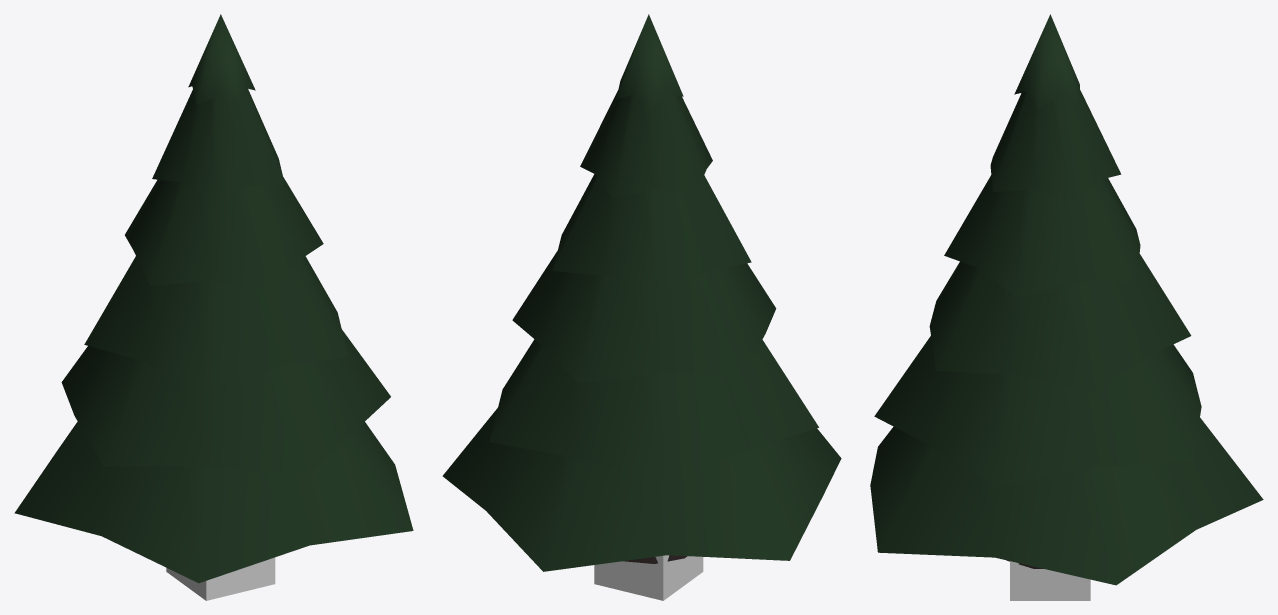
Rendered from TreeLowpoly.fbx.
The picture shows the model from 3 angles, left to right: view 1: azimuth 30°, elevation 25°; view 2: azimuth 150°, elevation 25°; view 3: azimuth 270°, elevation 25°; orthographic projection.
Visible parts, largest first — view 1: Cylinder, Cube; view 2: Cylinder, Cube; view 3: Cylinder, Cube.
Boxes of the visible parts, <box> form: Cylinder: <box>14,14,413,583</box>; Cube: <box>166,557,275,600</box>; Cylinder: <box>442,14,841,571</box>; Cube: <box>594,555,703,600</box>; Cylinder: <box>870,14,1263,585</box>; Cube: <box>1010,561,1090,600</box>.
Bounding box in the file's own units: 1006 × 1559 × 975.
2 materials, 1 textured.
